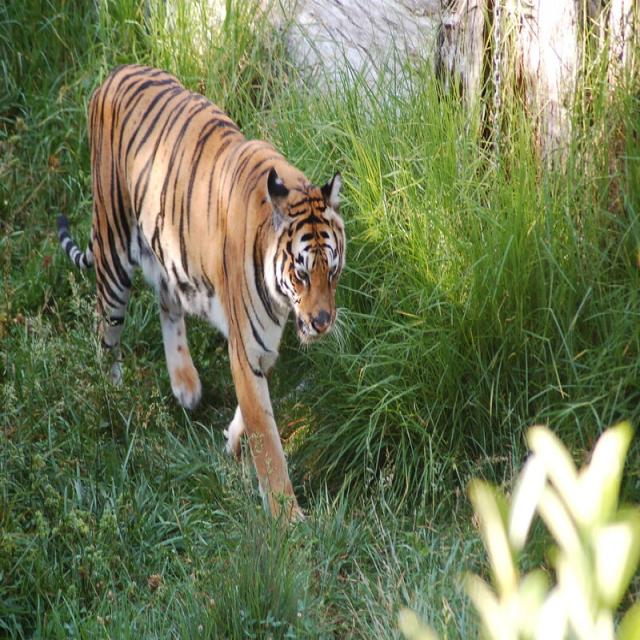Tiger: (55, 59, 346, 540)
